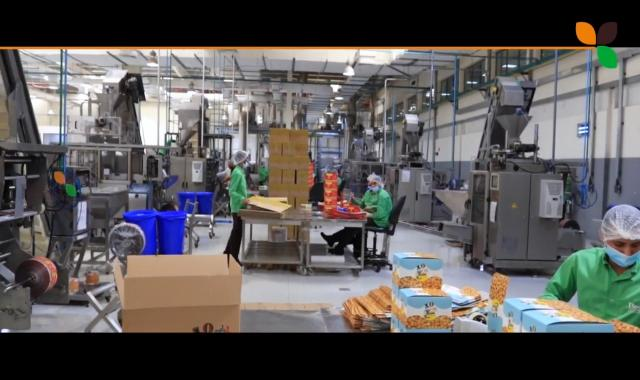hairnet: (603, 202, 640, 257), (368, 172, 382, 191), (232, 150, 248, 166)
